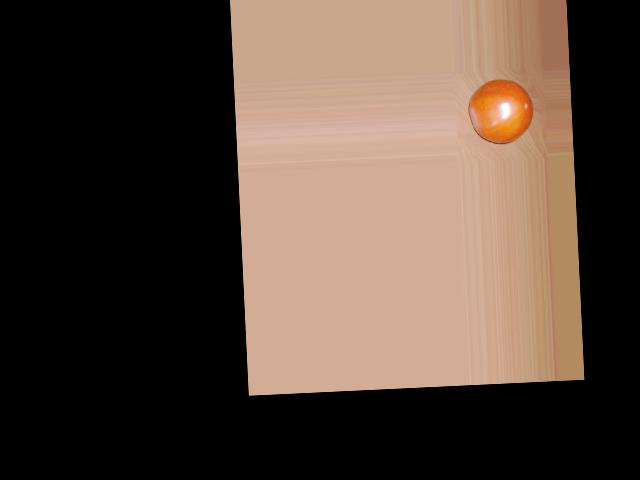tomato: (467, 76, 534, 145)
